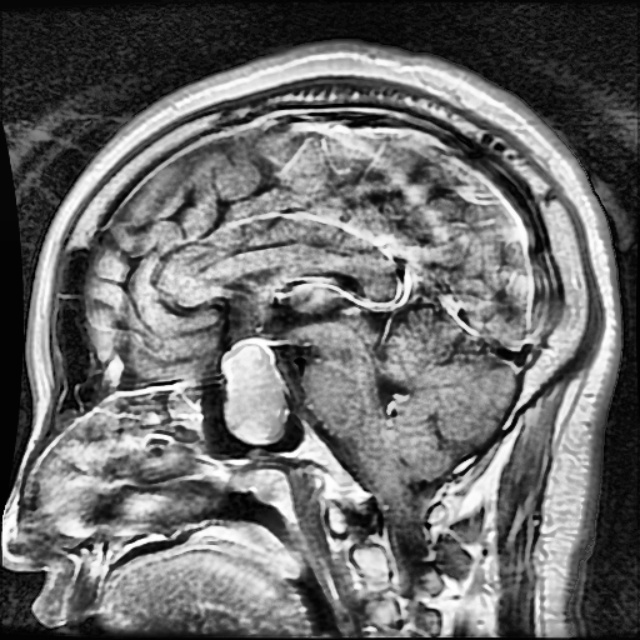Pituitary: (223, 339, 283, 444)
